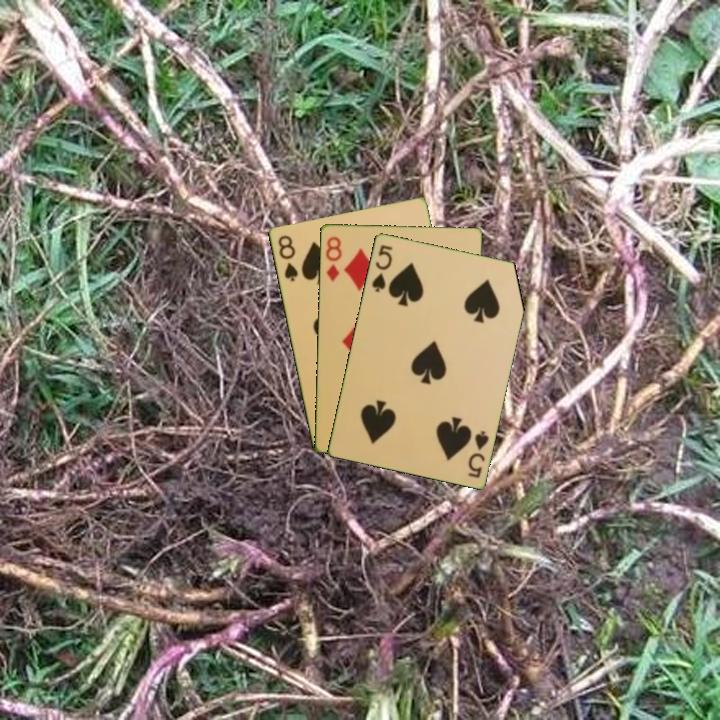5s: (368, 241, 395, 295), (464, 427, 491, 480)
8d: (322, 233, 344, 284)
8s: (274, 231, 300, 284)
